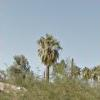Palm tree: (35, 23, 60, 85)
